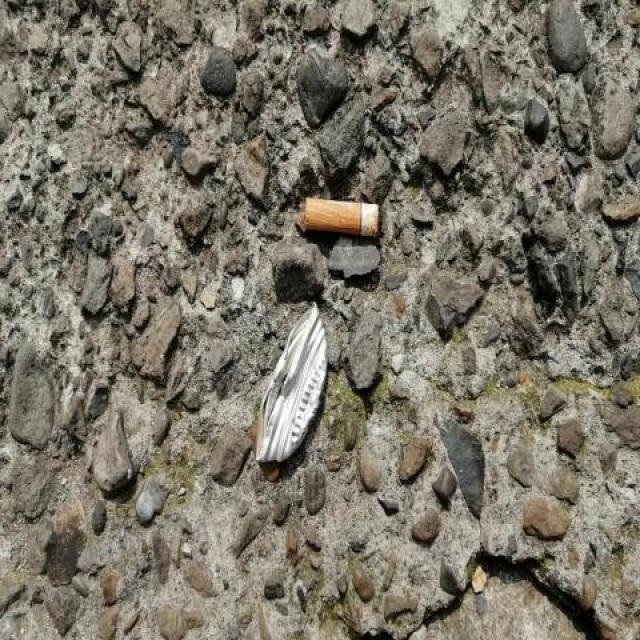non-organic waste: (300, 193, 385, 246)
